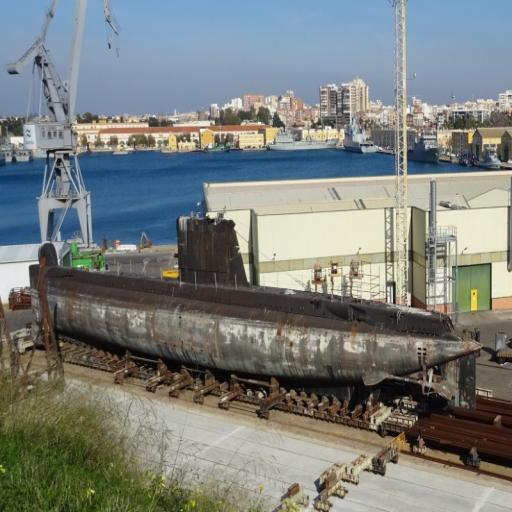submarine: (29, 216, 479, 409)
